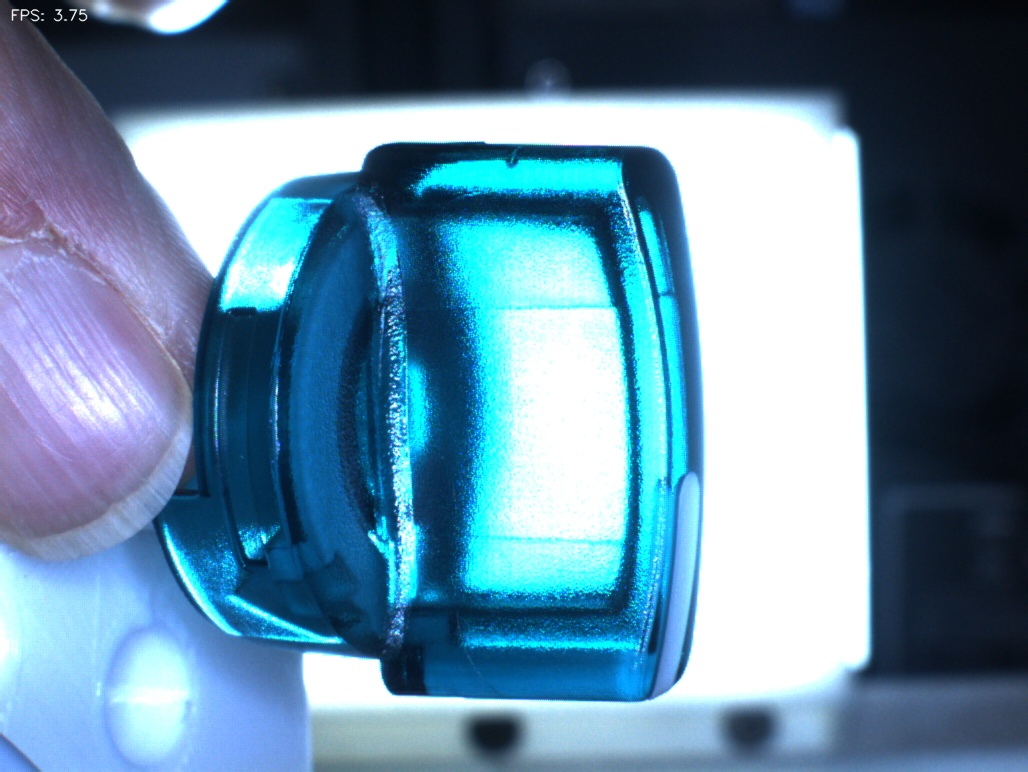Bulle: (472, 106, 556, 188)
